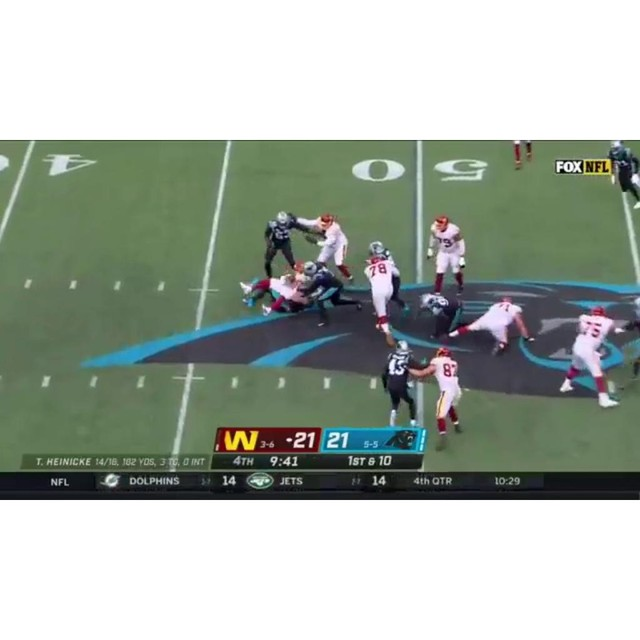american-football-player: (560, 305, 619, 408), (411, 345, 464, 447), (456, 296, 535, 355), (303, 260, 364, 327), (381, 341, 422, 427), (426, 216, 468, 298), (263, 211, 311, 280), (308, 213, 355, 283), (368, 241, 411, 316), (362, 252, 398, 341), (238, 272, 307, 315), (420, 292, 469, 343), (618, 296, 640, 383)
